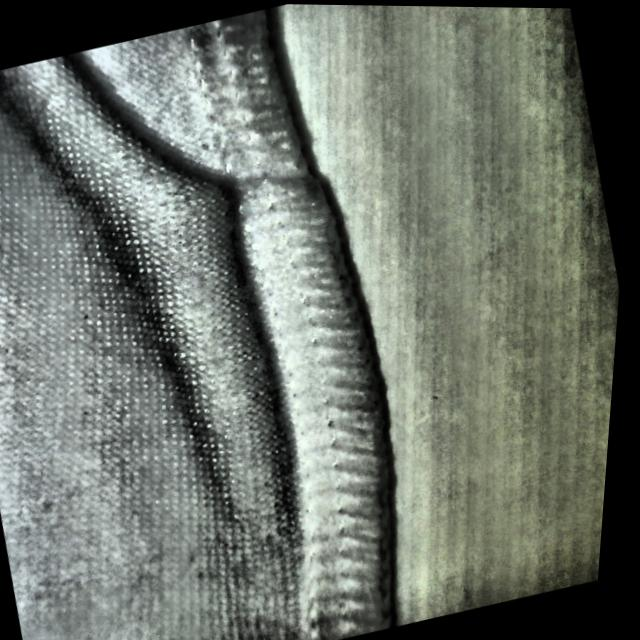seam: (50, 62, 381, 389)
